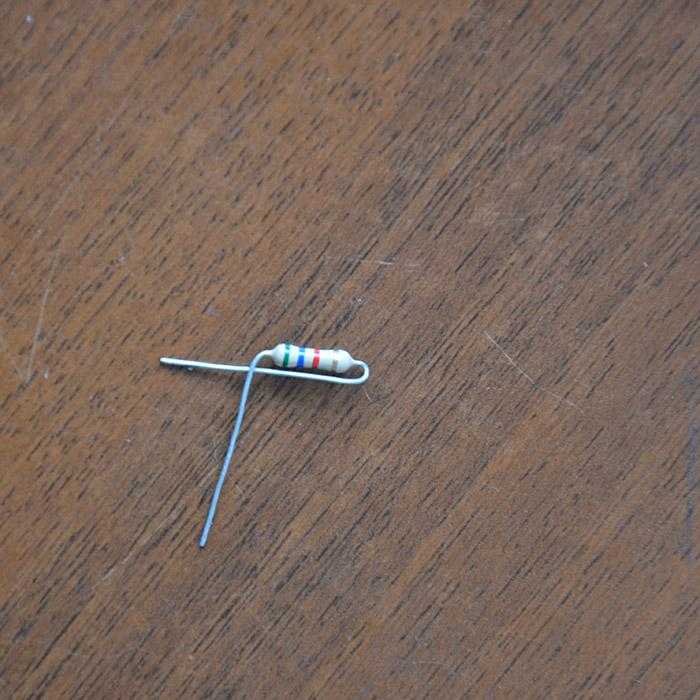resistor: (268, 343, 356, 373)
